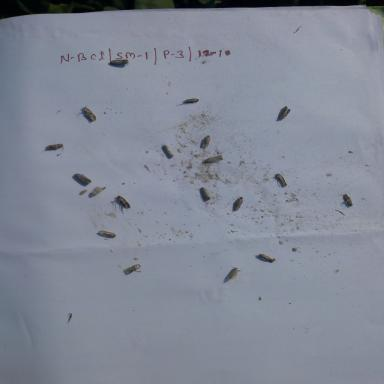pbw: (77, 104, 108, 128), (224, 190, 252, 216), (339, 190, 363, 215), (40, 140, 72, 157), (252, 248, 282, 266), (122, 258, 144, 282), (103, 56, 136, 72), (111, 192, 135, 213), (70, 169, 96, 186), (276, 104, 294, 122), (86, 184, 108, 198), (224, 265, 243, 281), (200, 154, 225, 165), (272, 173, 289, 189), (160, 141, 175, 159), (198, 184, 212, 202), (97, 228, 117, 240), (198, 133, 213, 148), (180, 97, 201, 106)
